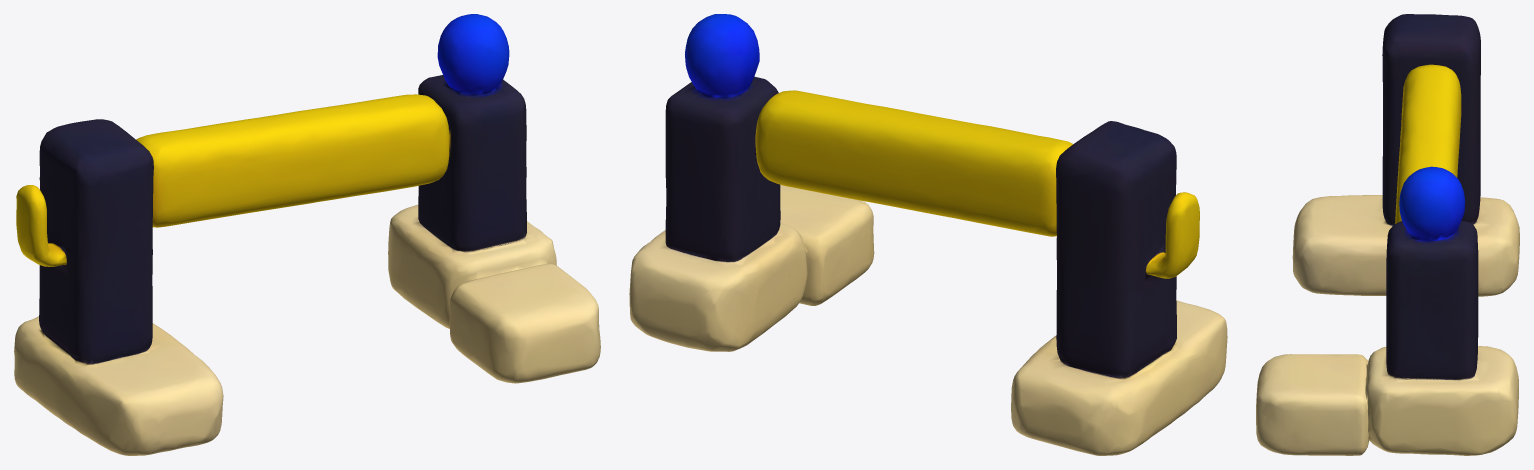
Rendered from gate.fbx.
The picture shows the model from 3 angles, left to right: view 1: azimuth 30°, elevation 25°; view 2: azimuth 150°, elevation 25°; view 3: azimuth 270°, elevation 25°; orthographic projection. The views are drawn at different scales.
Parts seen in each view (by area): view 1: tripo_node_09fd71dd; view 2: tripo_node_09fd71dd; view 3: tripo_node_09fd71dd.
Boxes of the visible parts, x1,y1,x2,y2 form: tripo_node_09fd71dd: (14,14,600,455); tripo_node_09fd71dd: (629,14,1227,455); tripo_node_09fd71dd: (1256,14,1519,455).
Bounding box in the file's own units: 1 × 0.5515 × 0.4908.
1 material, 1 textured.
